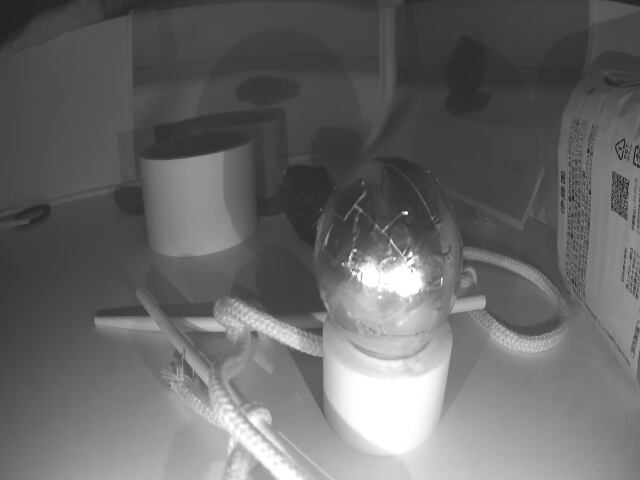Live: (324, 158, 460, 350)
